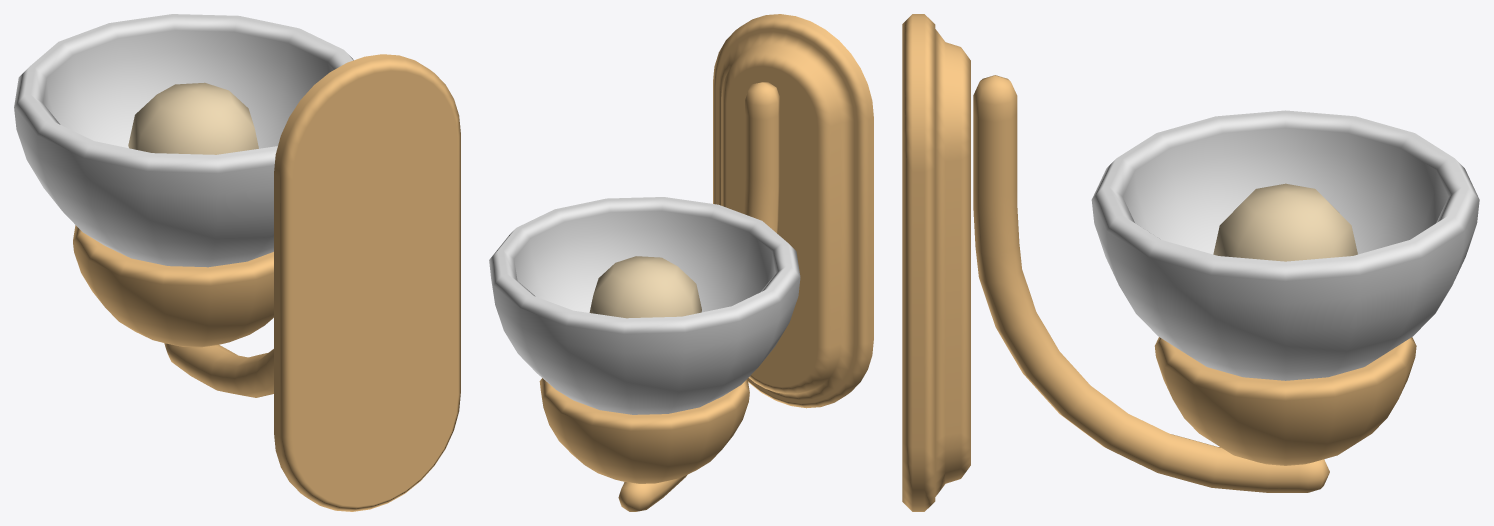
Rendered from Lamp_wall.fbx.
The picture shows the model from 3 angles, left to right: view 1: azimuth 30°, elevation 25°; view 2: azimuth 150°, elevation 25°; view 3: azimuth 270°, elevation 25°; orthographic projection. The views are drawn at different scales.
Visible parts, largest first — view 1: Cube, Sphere.001, Sphere.002, Circle.001, Circle; view 2: Sphere.001, Cube, Sphere.002, Circle, Circle.001; view 3: Sphere.001, Cube, Circle, Sphere.002, Circle.001.
Part boxes in pixels (box(x1,y1,x2,y2)): Cube: box(274, 54, 460, 511); Sphere.001: box(14, 14, 353, 267); Sphere.002: box(73, 225, 273, 347); Circle.001: box(128, 82, 258, 154); Circle: box(164, 343, 273, 397); Sphere.001: box(489, 197, 800, 414); Cube: box(713, 14, 873, 408); Sphere.002: box(539, 378, 749, 483); Circle: box(618, 82, 779, 511); Circle.001: box(589, 256, 701, 318); Sphere.001: box(1091, 110, 1479, 380); Cube: box(902, 14, 970, 511); Circle: box(973, 75, 1329, 492); Sphere.002: box(1154, 337, 1416, 465); Circle.001: box(1213, 183, 1357, 261).
Bounding box in the file's own units: 33.83 × 45.91 × 50.34.
